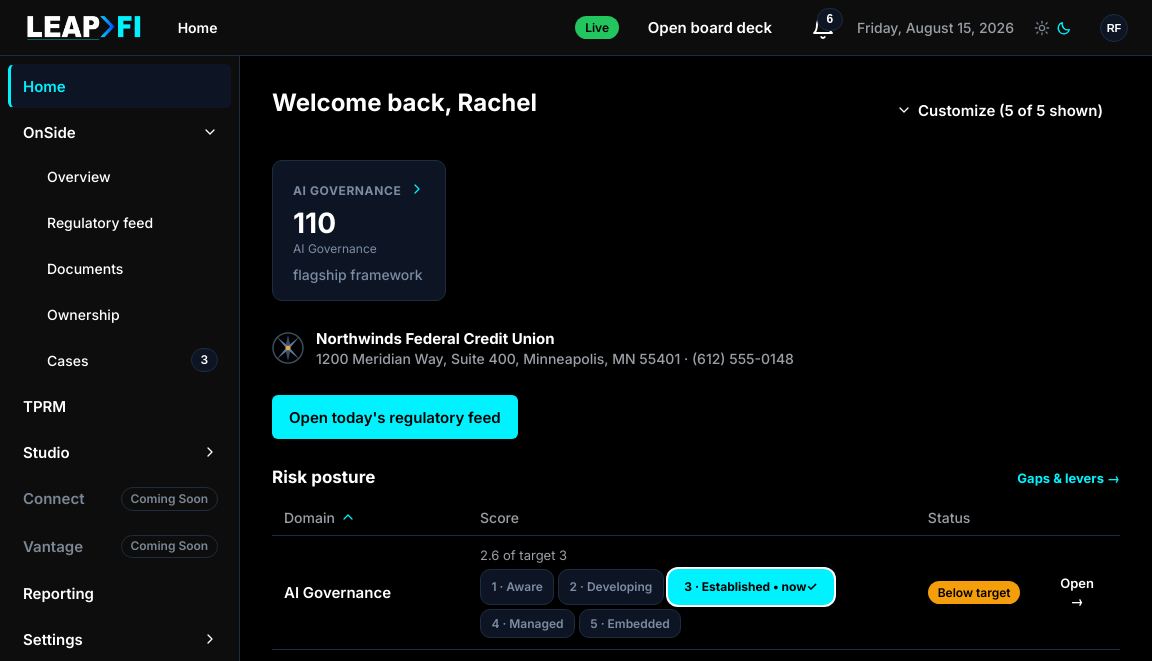
it: notification pipeline through the shell (SH-1/CS-01; base notify → renderBell, 2626–2642) › SH-8: re-opening the SAME case from the bell after backing out in-screen is not a dead press
The image size is (1152, 661).
# First open from the bell.
Click the button "6". click: (823, 28)
box: [801,6,845,50]
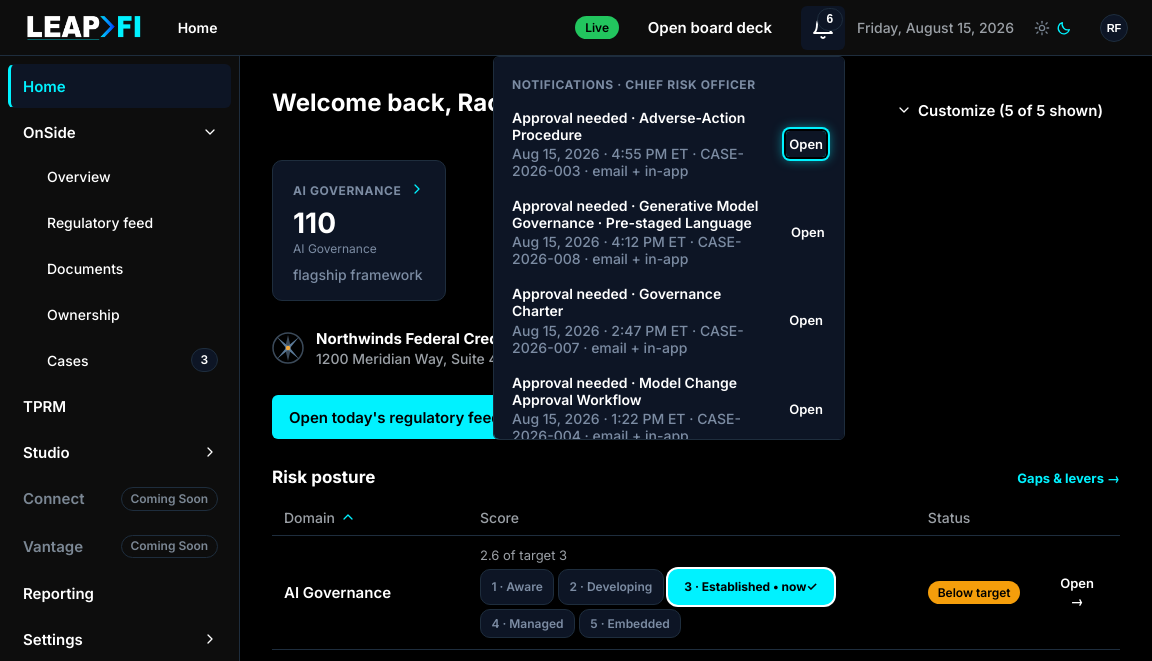
Click the 1st button "Open". click: (806, 144)
box: [786,131,826,157]
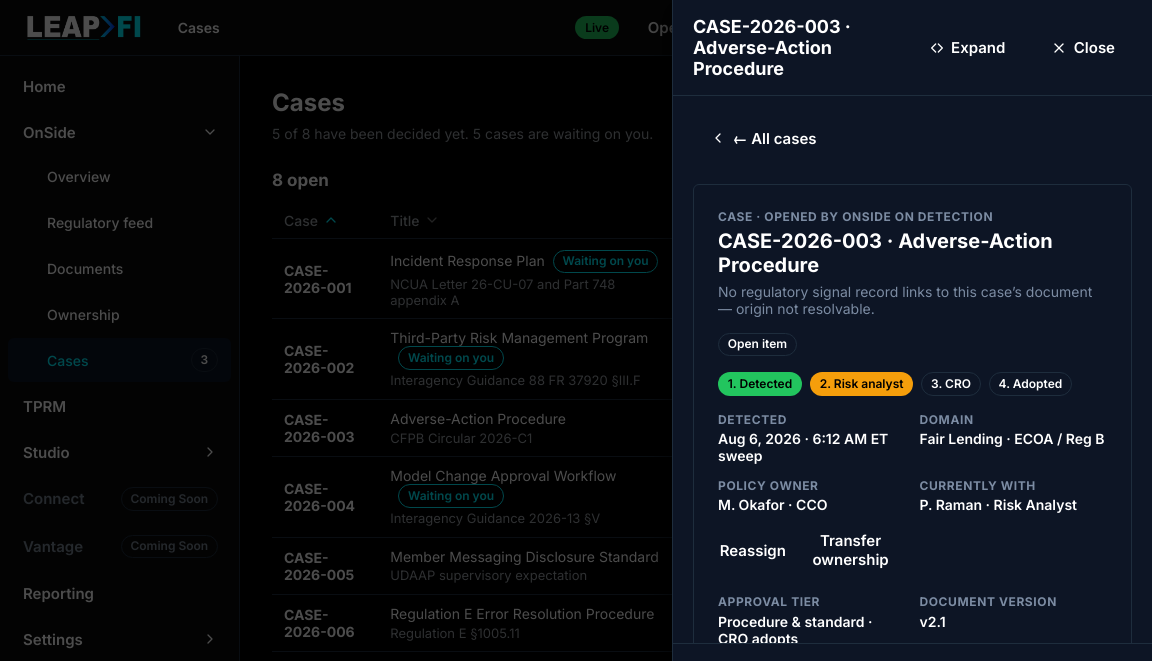
Expected: the button "← All cases" is shown
Click the button "← All cases". click: (763, 138)
box: [693,116,834,160]
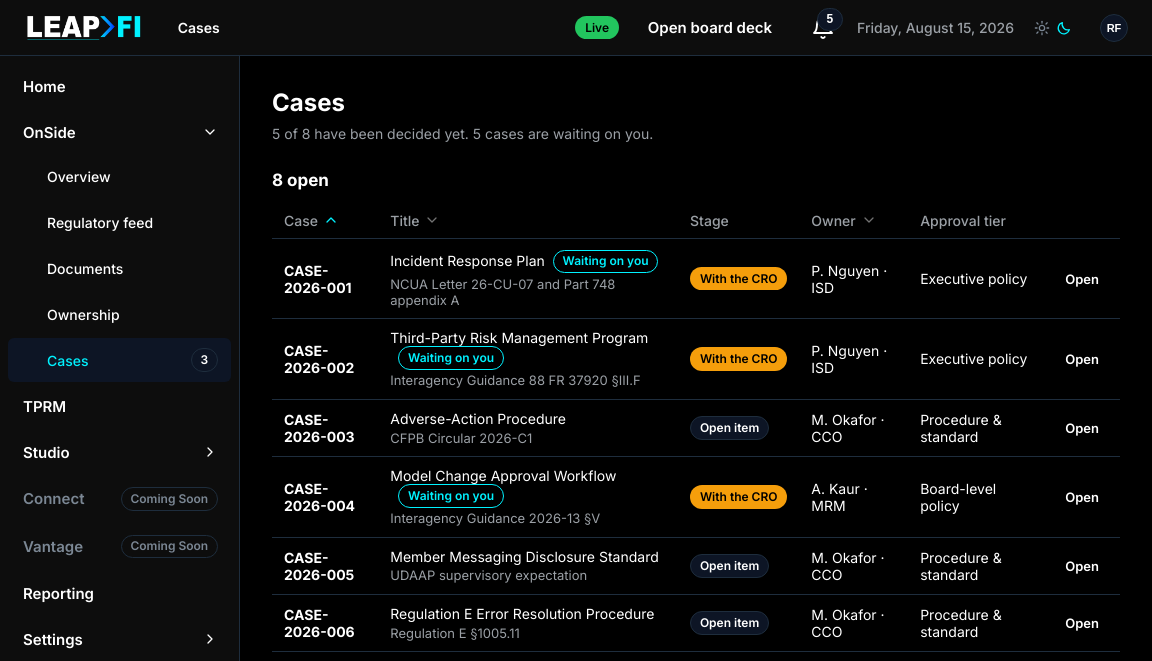
Expected: the button "← All cases" is gone
Click the button "5". click: (823, 28)
box: [801,6,845,50]
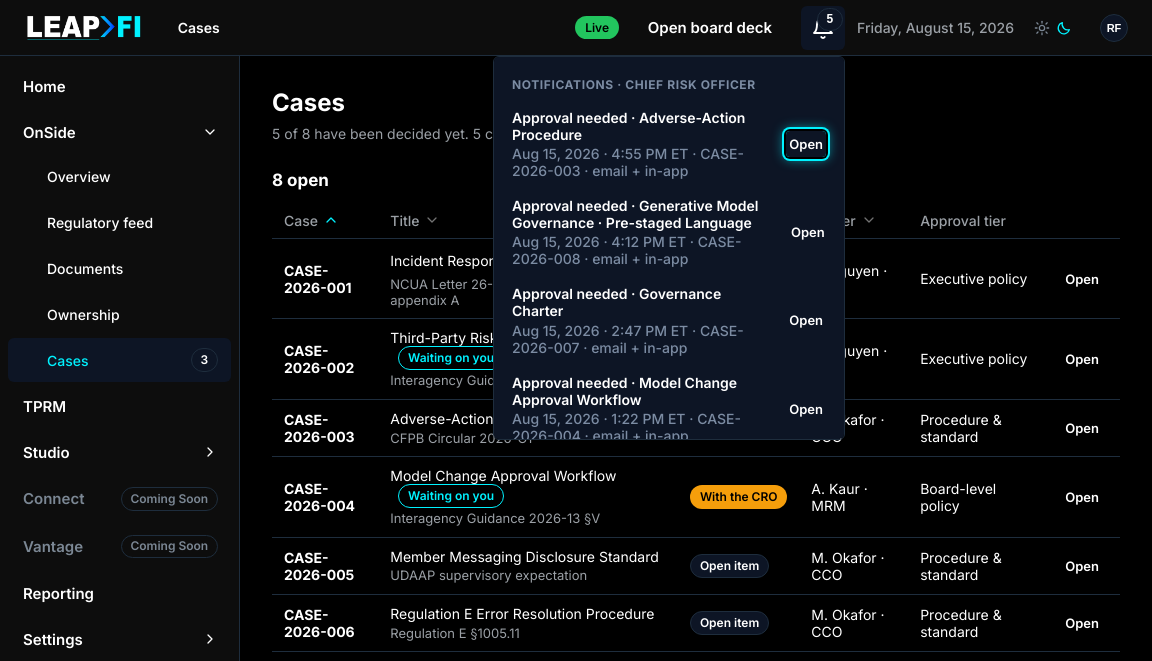
Click the 1st button "Open". click: (806, 144)
box: [786,131,826,157]
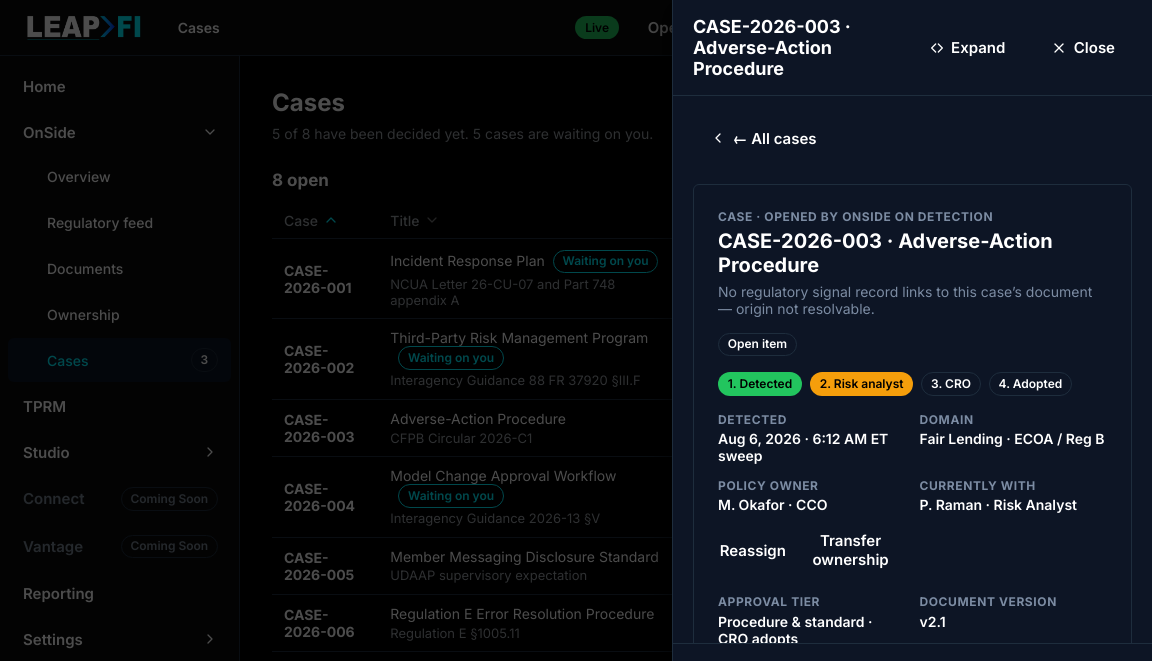
Expected: the button "← All cases" is shown, [693,116,834,160]
